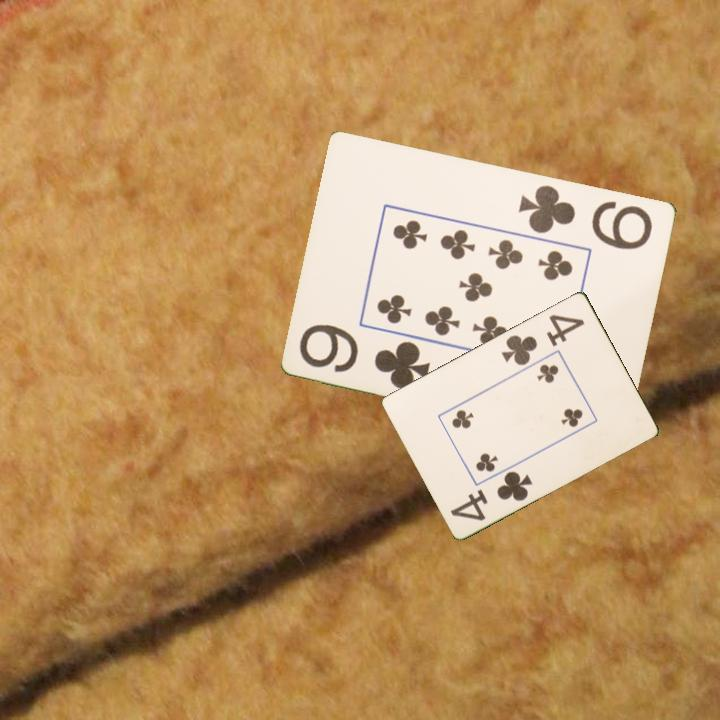4c: (498, 310, 588, 368), (447, 467, 536, 524)
9c: (515, 181, 656, 253), (296, 320, 433, 392)
